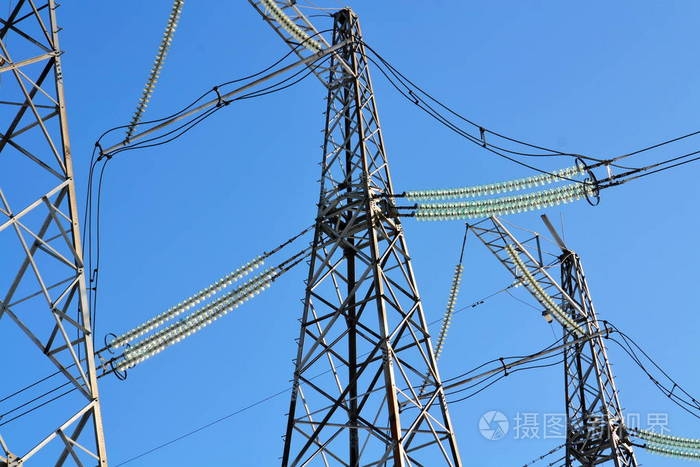insulator: (110, 255, 272, 373), (410, 165, 597, 220), (125, 1, 185, 135), (508, 244, 587, 334), (261, 1, 321, 50), (435, 264, 466, 358), (634, 428, 698, 461)
